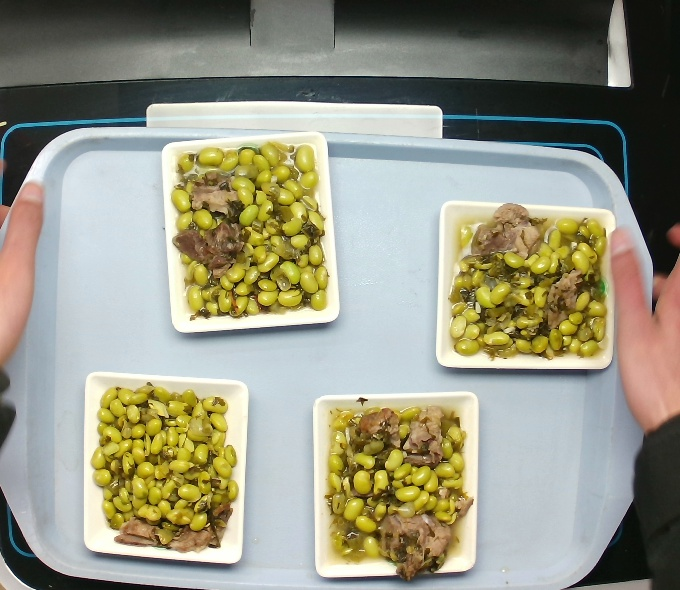wcq-ZhuRouDunDou: (86, 375, 247, 559), (316, 399, 477, 583), (173, 142, 334, 326), (446, 206, 613, 361)
